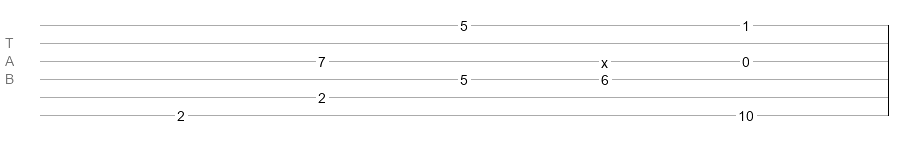0: (742, 54, 750, 64)
1: (742, 18, 750, 28)
10: (738, 108, 754, 118)
2: (177, 108, 185, 118), (318, 90, 326, 100)
5: (460, 18, 468, 28), (460, 72, 468, 82)
6: (601, 72, 609, 82)
7: (318, 54, 326, 64)
x: (601, 55, 608, 63)
